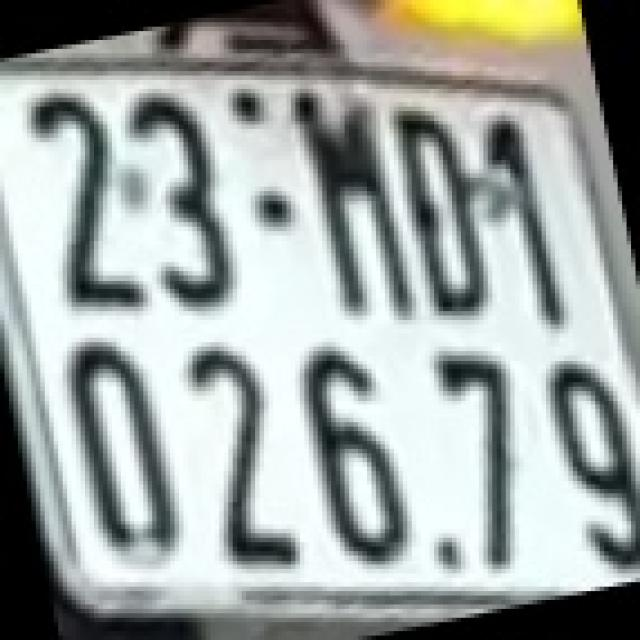0: (67, 338, 184, 569)
1: (492, 102, 586, 334)
2: (192, 342, 300, 569), (32, 93, 144, 307)
3: (134, 93, 233, 307)
6: (304, 346, 412, 564)
7: (434, 355, 519, 569)
9: (550, 364, 640, 564)
D: (387, 93, 481, 324)
M: (291, 74, 412, 322)
